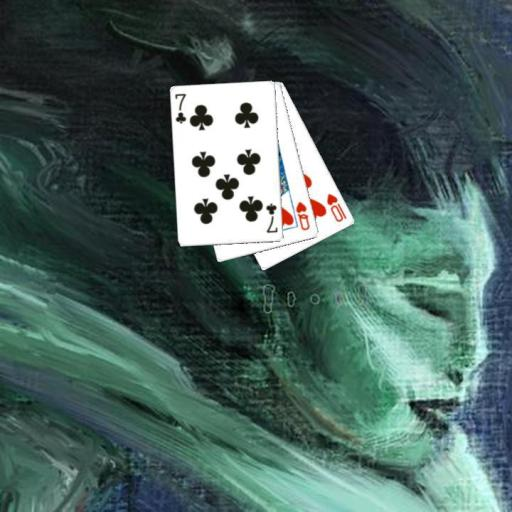10H: (324, 191, 349, 223)
7C: (263, 201, 280, 235), (172, 90, 188, 125)
QH: (293, 198, 311, 232)
